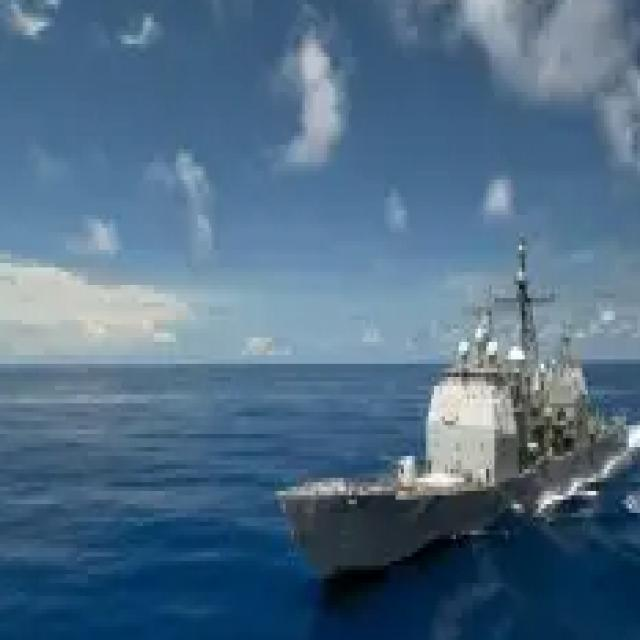navalvessels: (274, 235, 636, 570)
